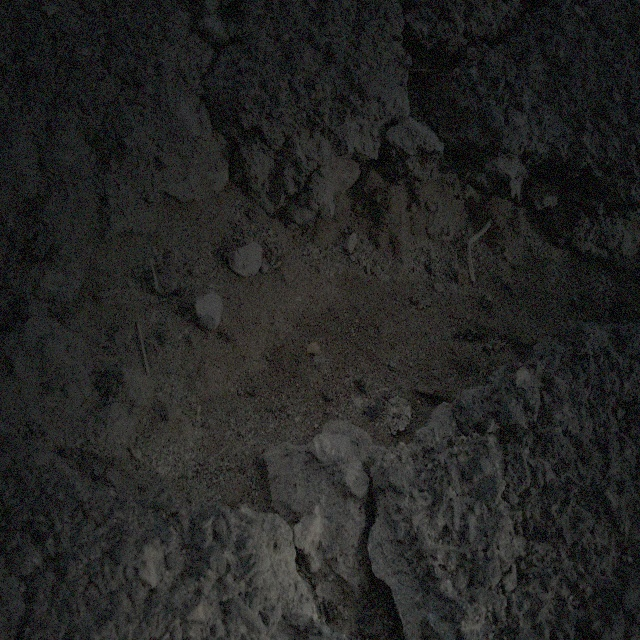pothole: (57, 114, 584, 536)
